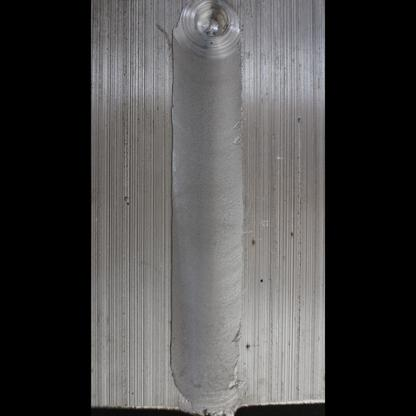crack: (228, 366, 241, 389), (232, 325, 244, 347)
cross-section reduction defect: (168, 321, 247, 413)
keyhole: (167, 1, 249, 60)
